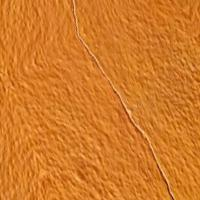crack: (124, 113, 187, 199)
